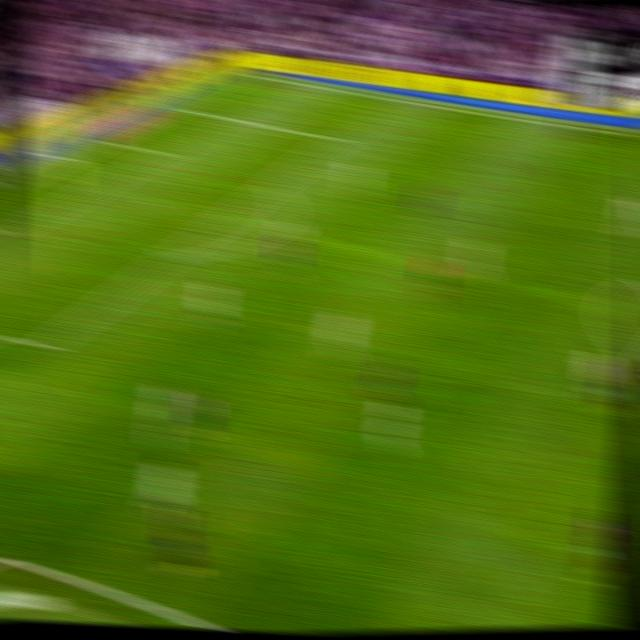bigarea_bottom_inner: (30, 331, 57, 360)
bigarea_top_inner: (325, 129, 347, 149)
bigarea_top_outter: (167, 97, 190, 114)
bottom_arc_area_intersection: (161, 244, 187, 267)
smallarea_top_inner: (150, 144, 172, 160)
top_arc_area_intersection: (261, 175, 284, 194)
